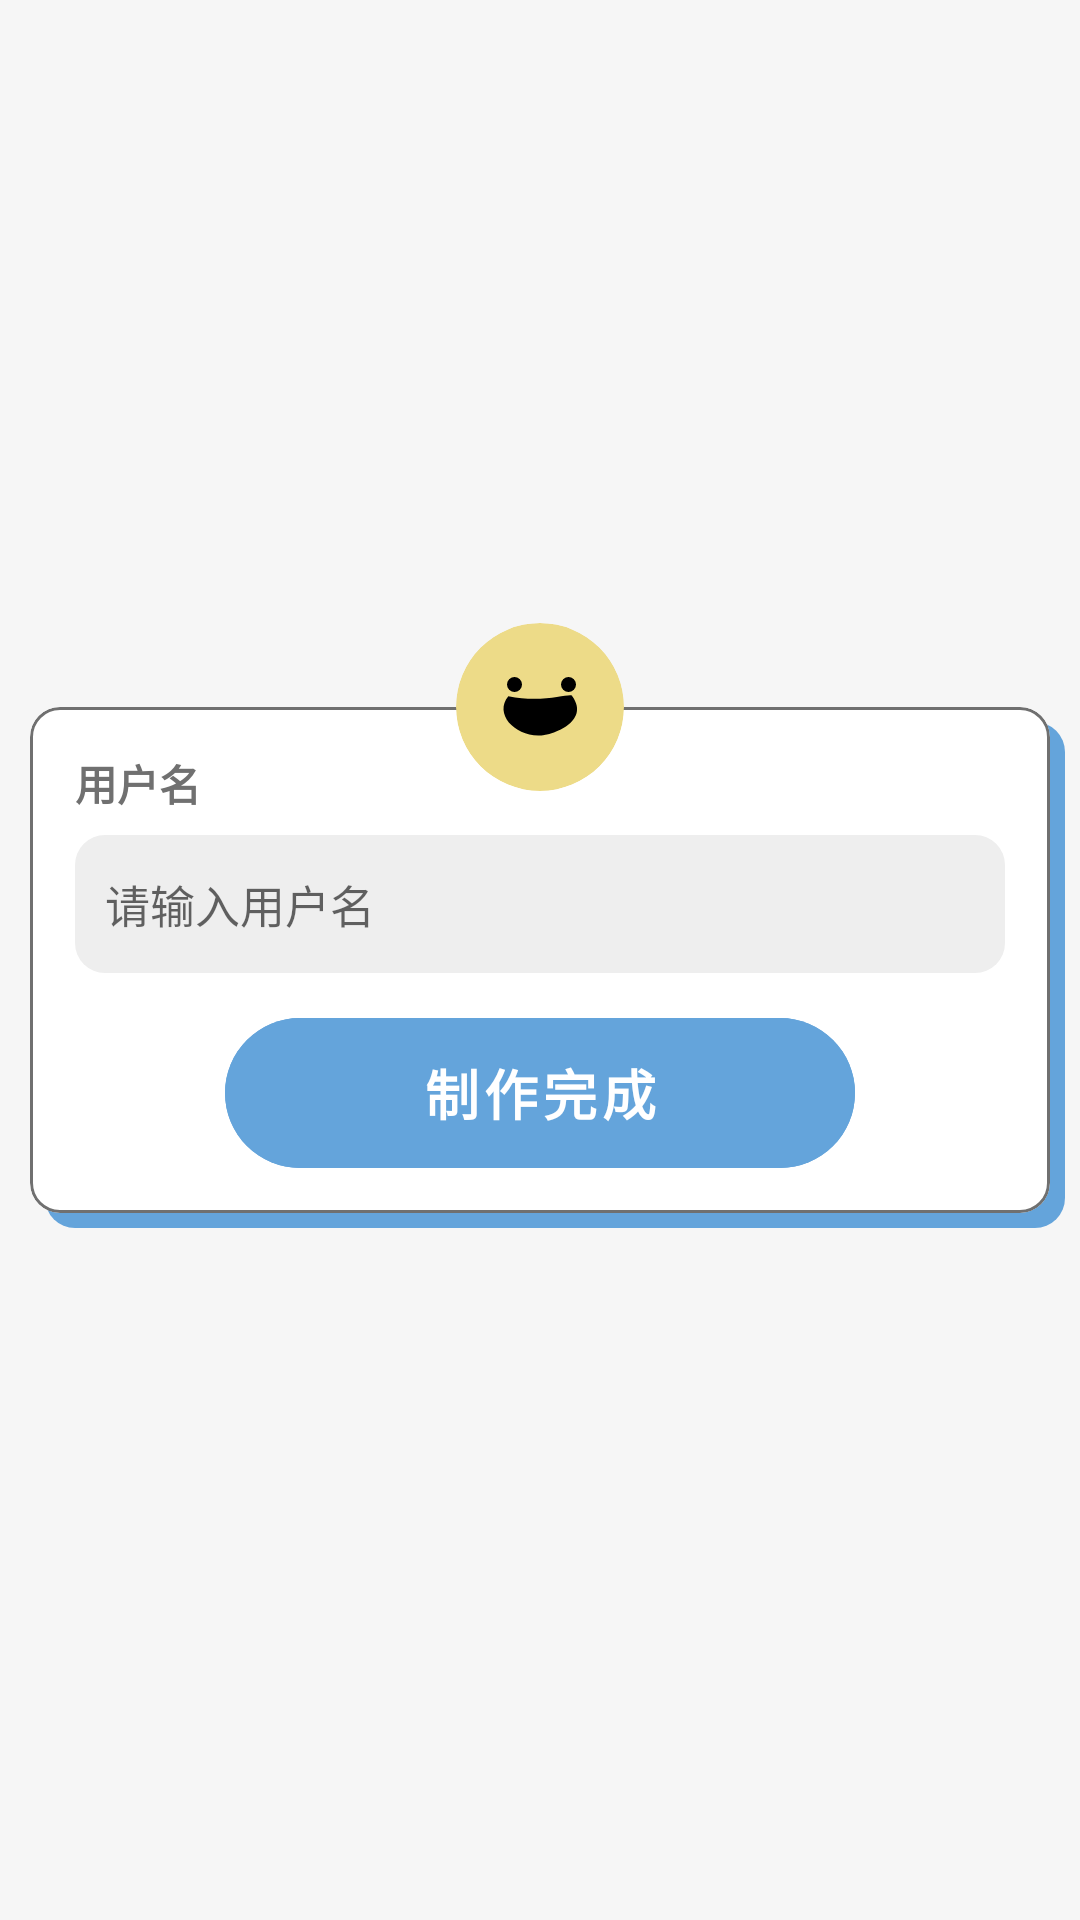

Icon click points for this 1080w x 1920h phone screenshot, format (x,y):
mood: (540,707)
